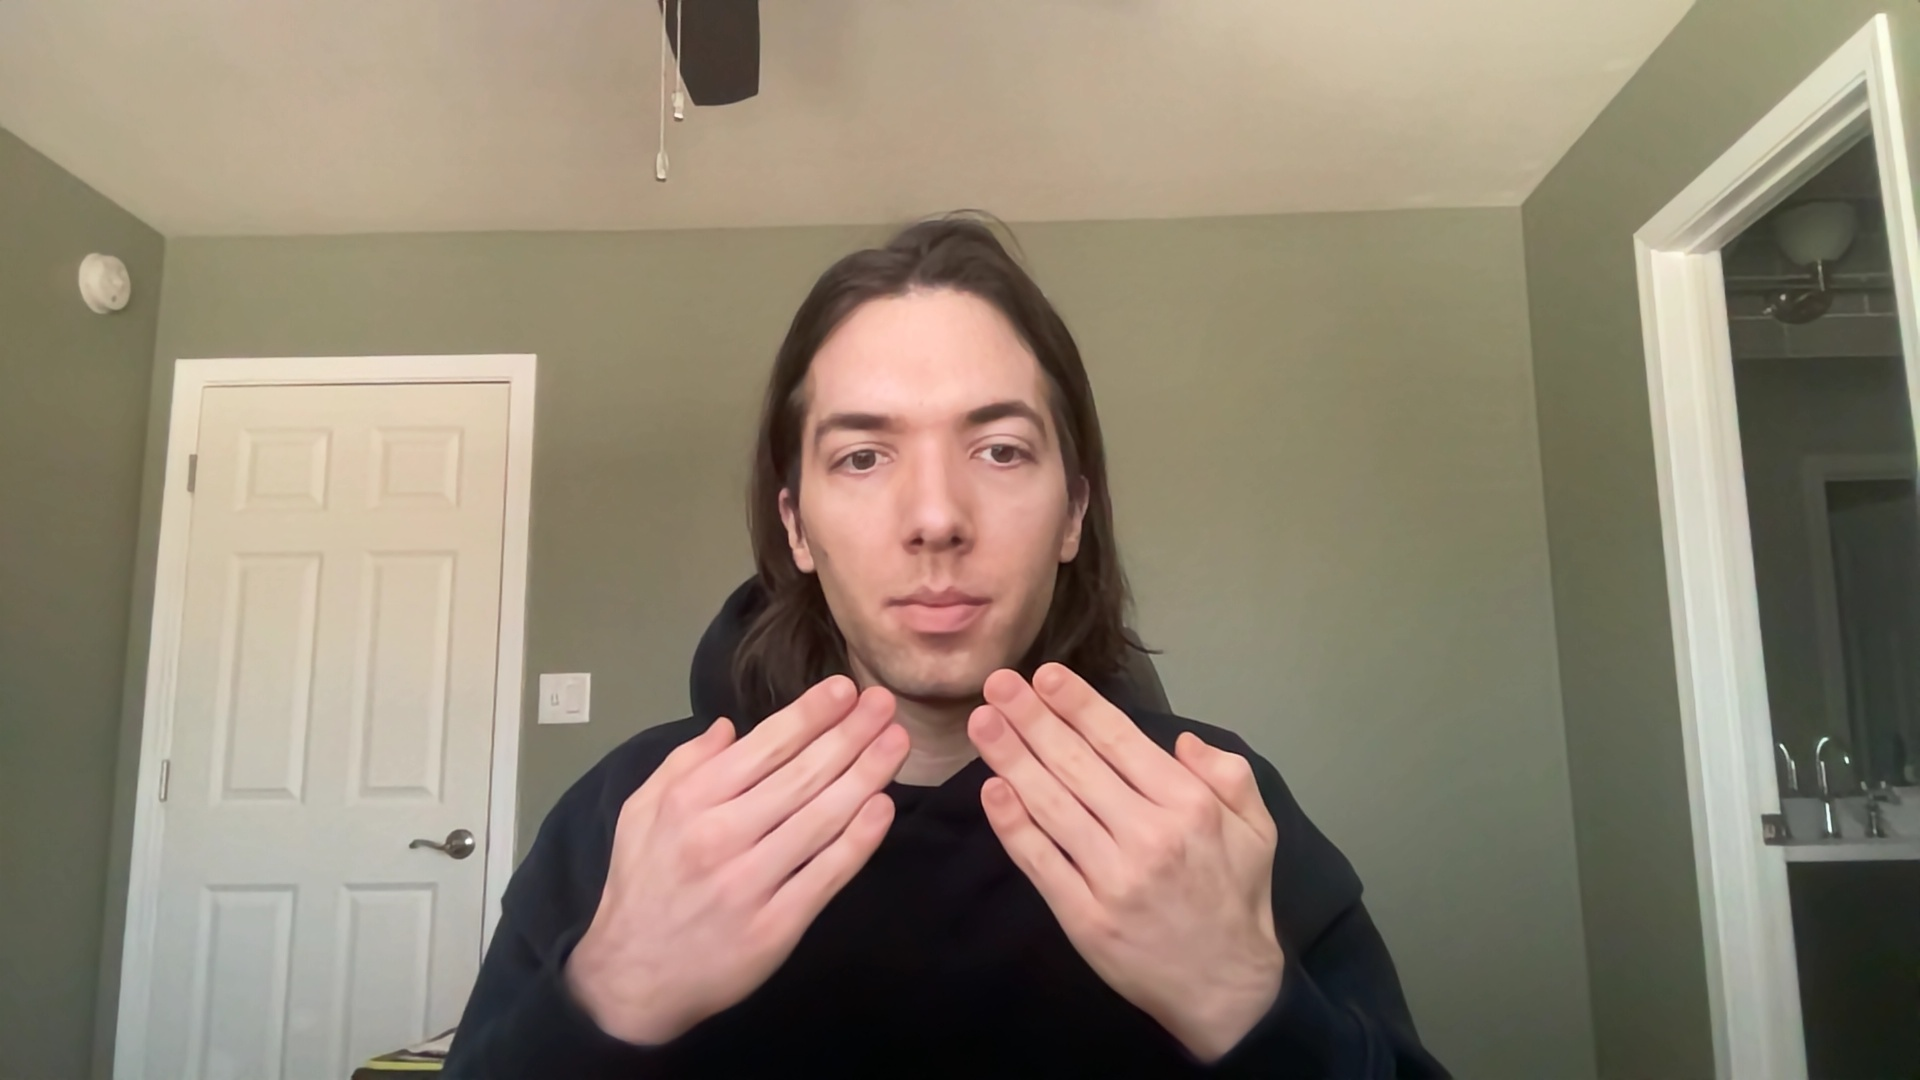Thank You: (549, 634, 1298, 1062)
